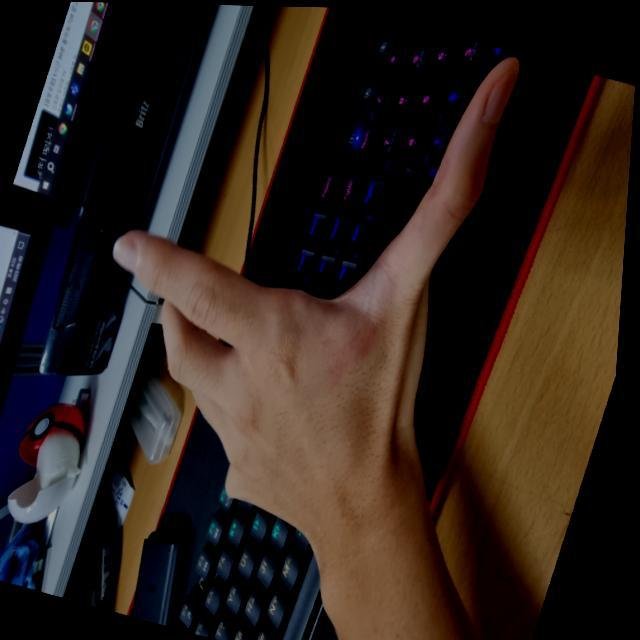keyboard-with-hands: (177, 21, 519, 640)
